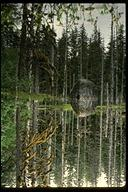tree: (9, 7, 121, 183)
